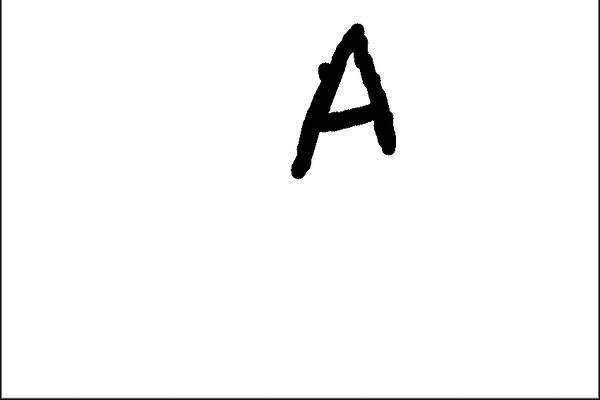A: (282, 12, 409, 183)
